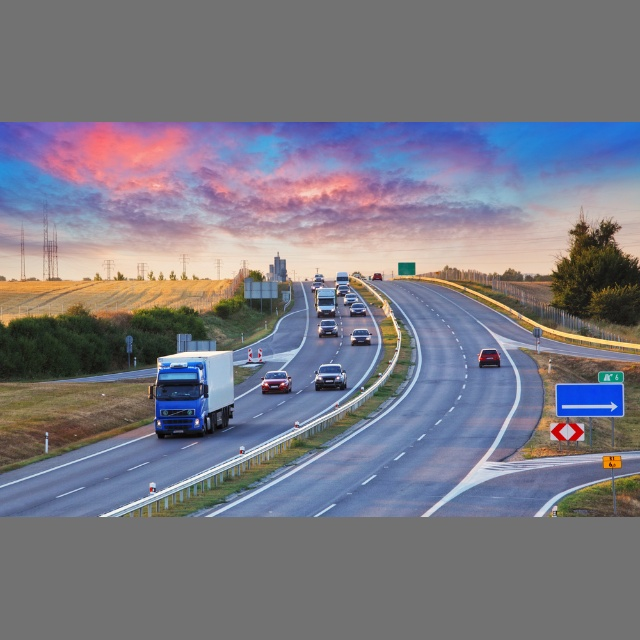Внедорожник: (319, 321, 339, 337)
Грузовик: (155, 352, 234, 437), (317, 287, 337, 320)
Легковой автомобиль: (316, 365, 347, 393), (472, 348, 505, 370), (263, 370, 290, 393), (350, 329, 371, 346)
